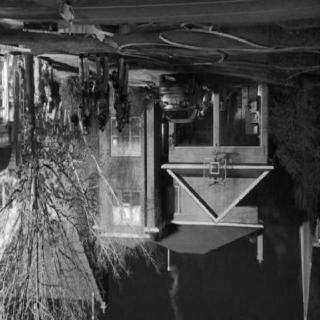other: (109, 202, 143, 232)
